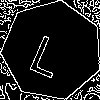L: (27, 26, 71, 79)
